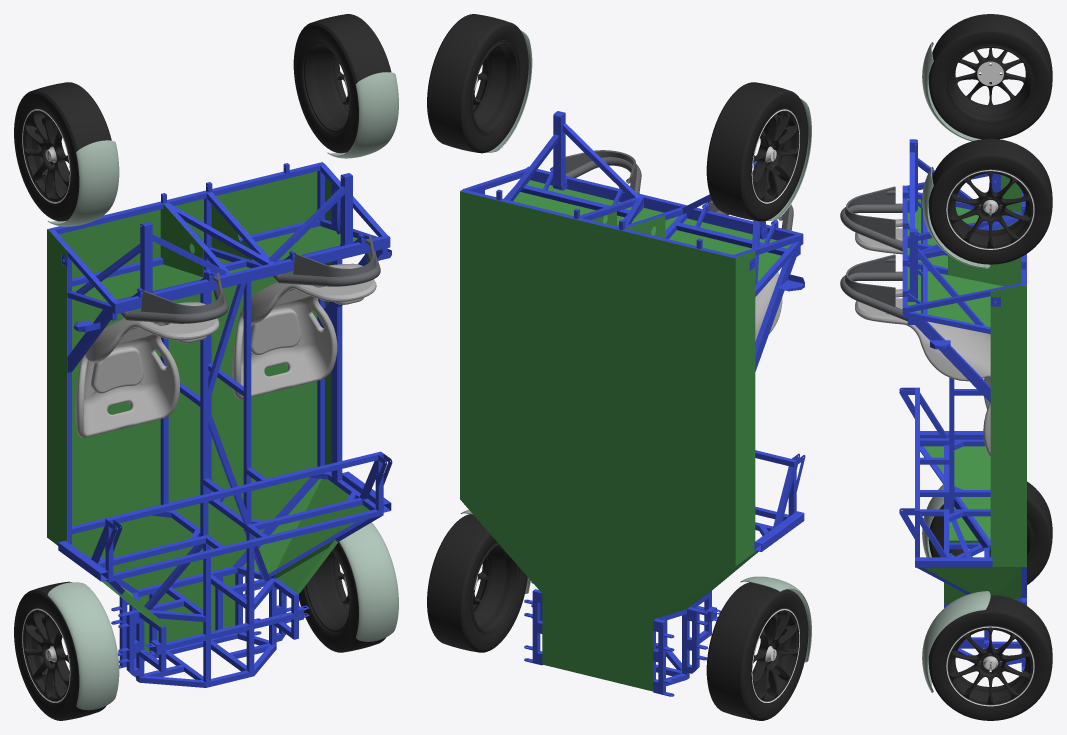
File: carModel-2.fbx
The picture shows the model from 3 angles, left to right: view 1: azimuth 30°, elevation 25°; view 2: azimuth 150°, elevation 25°; view 3: azimuth 270°, elevation 25°; orthographic projection. The views are drawn at different scales.
Visible parts, largest first — view 1: Body1 (×6), Body200, Body198, Body220, Body219, Body110, Body201, Body222, Body221, Body152, Body82, Body119 (+34 smaller); view 2: Body200, Body1 (×5), Body198, Body201, Body152, Body176, Body203, Body134, Body205, Body155, Body154, Body220 (+5 smaller); view 3: Body1 (×6), Body199, Body201, Body109, Body110, Body219, Body197, Body245, Body249, rollbar, Body177, rollbar (1) (+19 smaller).
Boxes of the visible parts, x1,y1,x2,y2 form: Body1 (×6): (14,14,391,720); Body200: (51,162,319,652); Body198: (47,229,67,545); Body220: (47,582,119,710); Body219: (339,522,398,641); Body110: (243,478,369,573); Body201: (72,226,357,302); Body222: (47,140,119,226); Body221: (327,72,398,158); Body152: (112,235,390,314); Body82: (106,509,383,582); Body119: (111,453,378,523); Body200: (460,191,735,691); Body1 (×5): (427,14,808,720); Body198: (735,251,755,566); Body201: (513,180,791,282); Body152: (526,166,803,245); Body176: (755,246,800,371); Body203: (553,111,565,190); Body134: (465,190,732,256); Body205: (562,123,640,198); Body155: (520,185,629,217); Body154: (676,222,786,255); Body220: (740,576,811,662); Body1 (×6): (855,14,1052,720); Body199: (990,285,1026,566); Body201: (907,198,1003,326); Body109: (924,446,990,540); Body110: (923,567,1021,599); Body219: (922,591,990,692); Body197: (948,255,1021,286); Body245: (845,254,895,306); Body249: (845,186,895,239); rollbar: (840,271,907,321); Body177: (908,317,990,402); rollbar (1): (840,203,902,251).
Bounding box in the file's own units: 1627 × 3030 × 1026.
